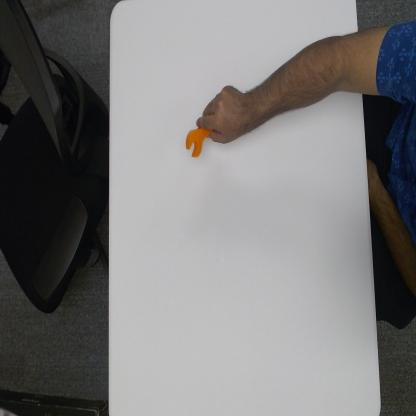Arm: (247, 22, 369, 138)
Hand: (197, 81, 250, 146)
Screwdriver: (184, 121, 209, 165)
